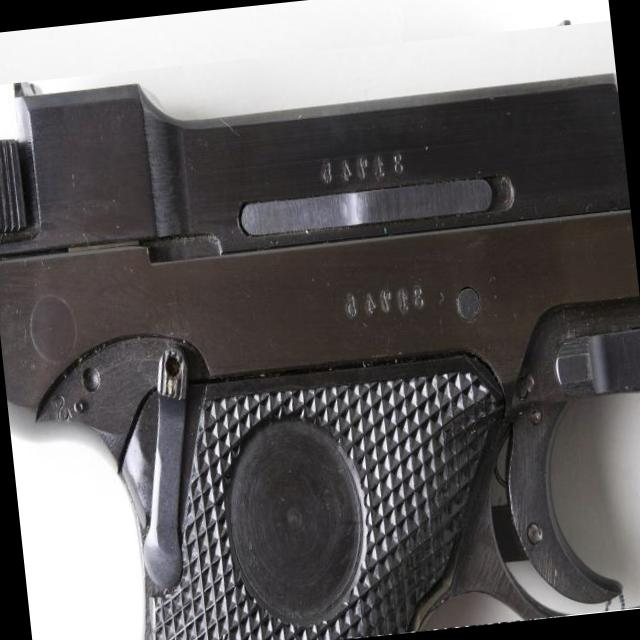Gun: (0, 75, 640, 640)
